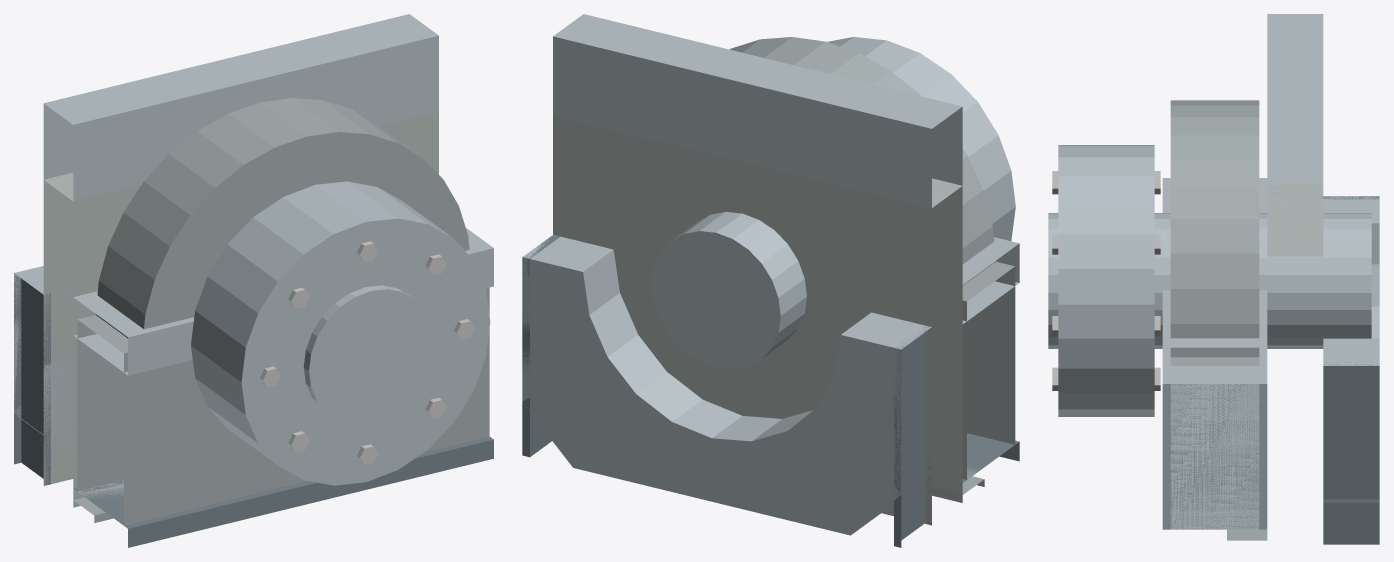
The model's file is cell_143.obj.
The picture shows the model from 3 angles, left to right: view 1: azimuth 30°, elevation 25°; view 2: azimuth 150°, elevation 25°; view 3: azimuth 270°, elevation 25°; orthographic projection. The views are drawn at different scales.
Bounding box in the file's own units: 1 × 1 × 0.825.
